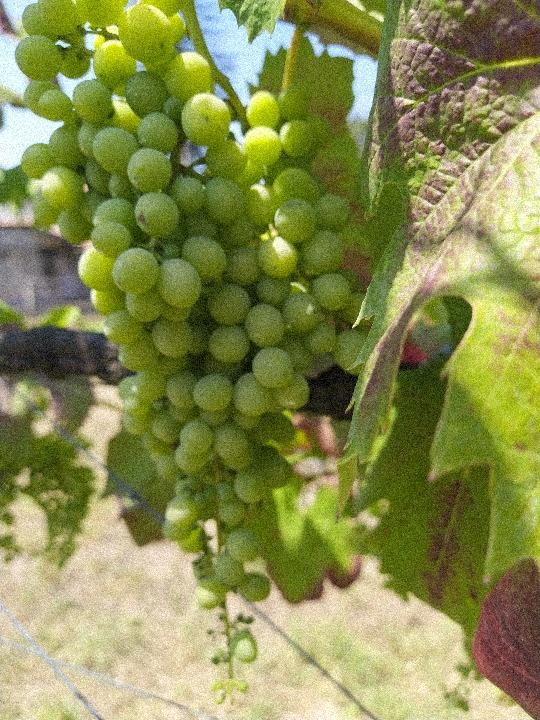grape: (13, 1, 374, 712)
